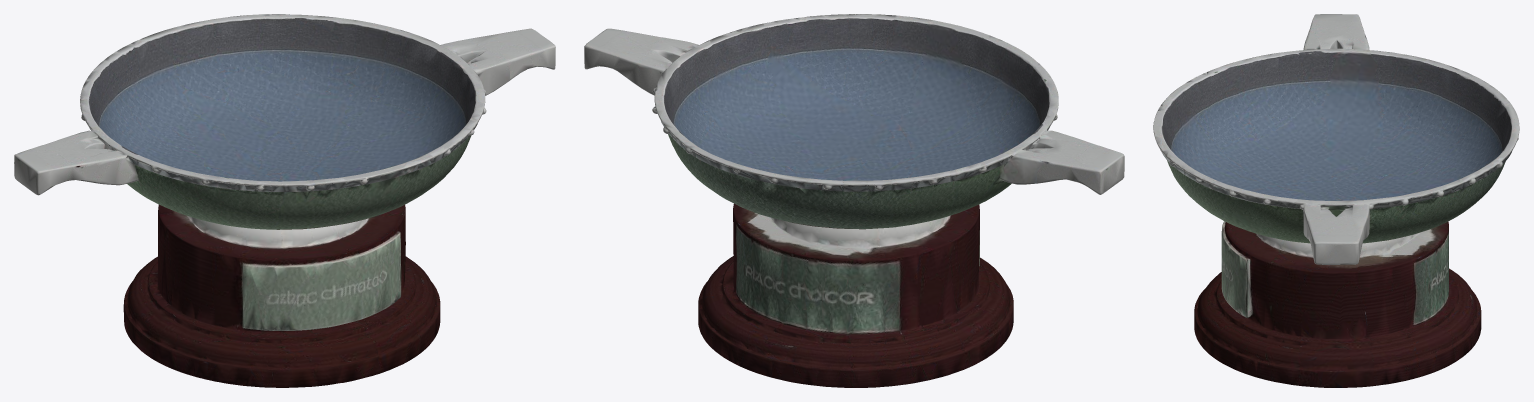
File: f-celtic.glb
3 renders of one model, left to right at view 1: azimuth 30°, elevation 25°; view 2: azimuth 150°, elevation 25°; view 3: azimuth 270°, elevation 25°, orthographic. The views are drawn at different scales.
Size of the model in its own units: 1.9 by 0.7797 by 1.28.
1 material, 1 textured.
